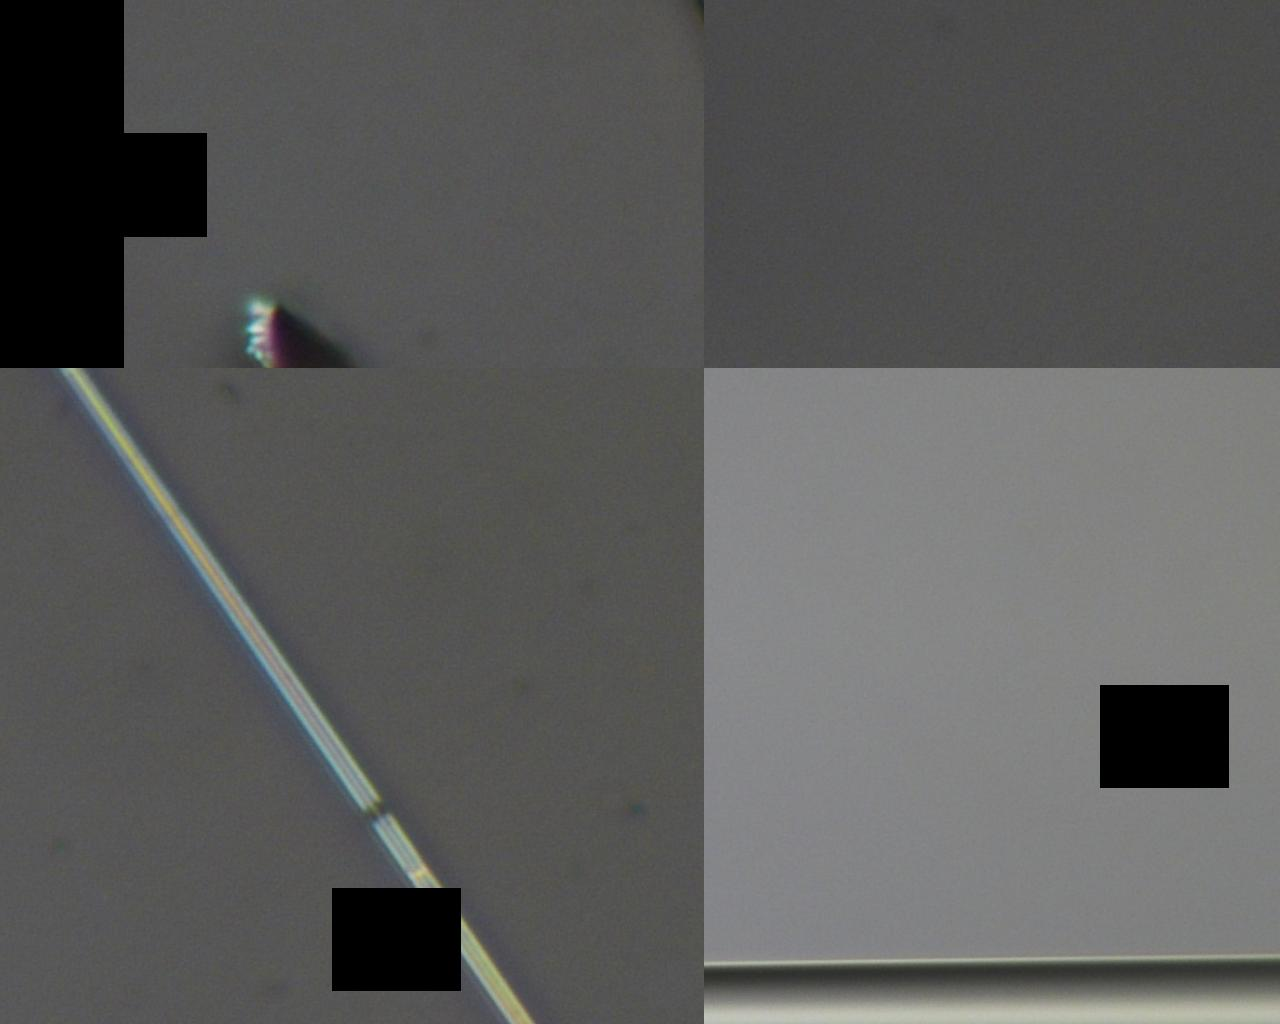fiber: (762, 0, 1280, 556), (0, 130, 469, 521), (588, 783, 1165, 993), (177, 652, 332, 1024)
